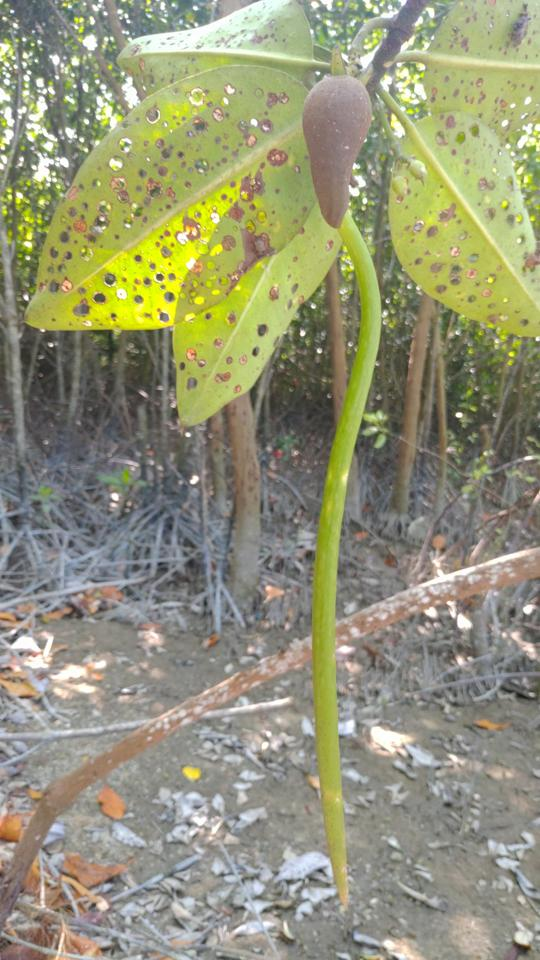mentah: (291, 30, 404, 922)
